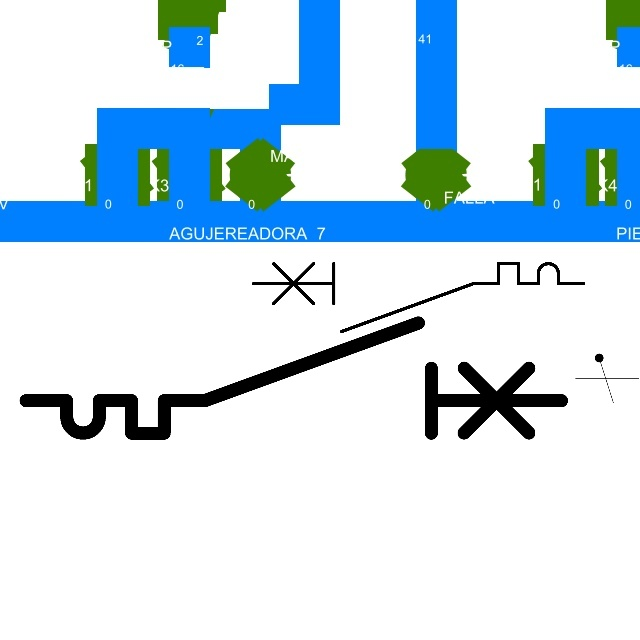interruptor_termomagnetico: (12, 309, 575, 447), (245, 255, 592, 340)
